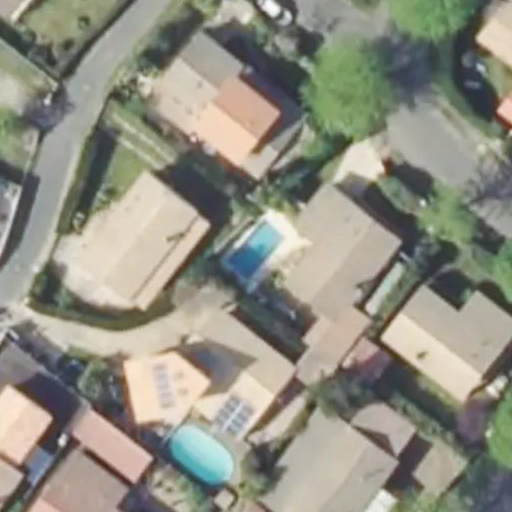pool: (167, 424, 235, 484), (229, 218, 284, 281)
